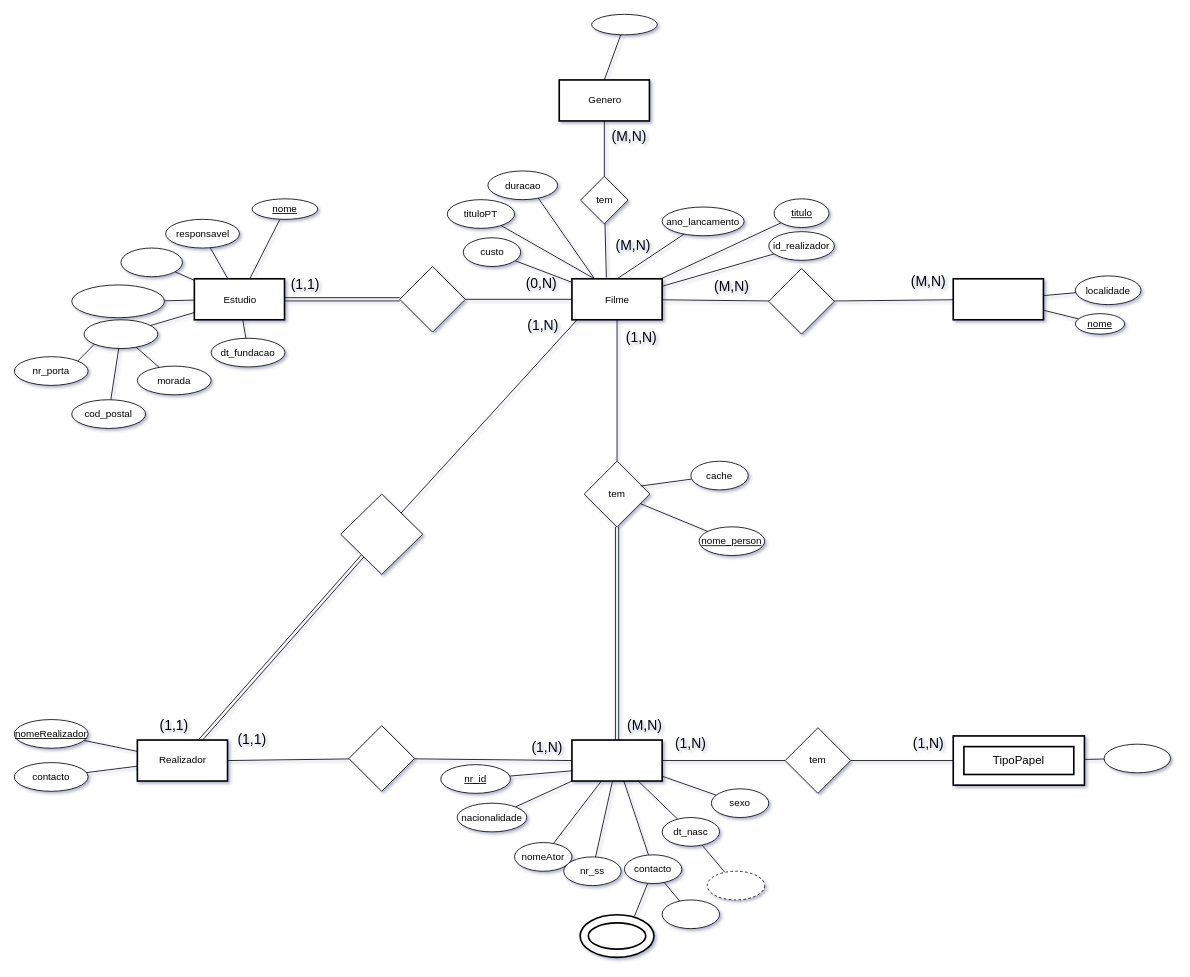
This 1190x977 diagram has some shape labels left out. The shapes that lost their labels are listed below. From the top down, each one's centre as x and y in pixels, then its label:
the point at 624,24: designacao
the point at 151,262: id_filme
the point at 117,301: lucro_ano_anterior
the point at 432,299: produz
the point at 801,301: apresenta
the point at 998,299: Cinema
the point at 120,333: endereco
the point at 381,533: realiza
the point at 381,758: pode ser
the point at 617,760: Ator
the point at 1137,758: Personagem
the point at 735,885: idade
the point at 690,914: e-mail
the point at 616,935: telefone
